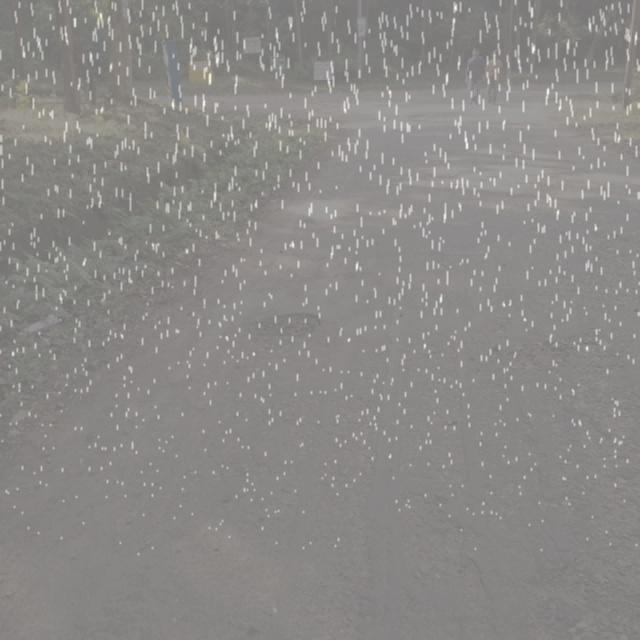Pothole: (426, 153, 540, 215), (260, 304, 334, 348)
